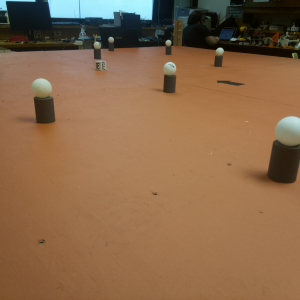blockE: (94, 59, 107, 71)
corner: (174, 20, 184, 46)
obstacle: (264, 115, 300, 183), (31, 78, 58, 124), (163, 62, 176, 94), (91, 41, 103, 60), (214, 47, 225, 66), (163, 40, 173, 55), (108, 36, 116, 50)
start: (214, 74, 245, 89)
